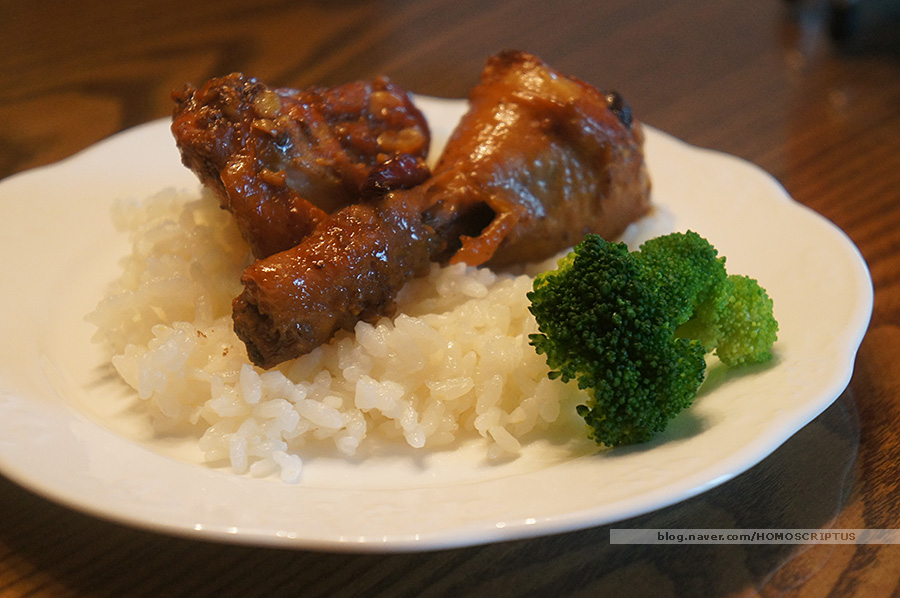plain rice: (143, 351, 552, 431)
